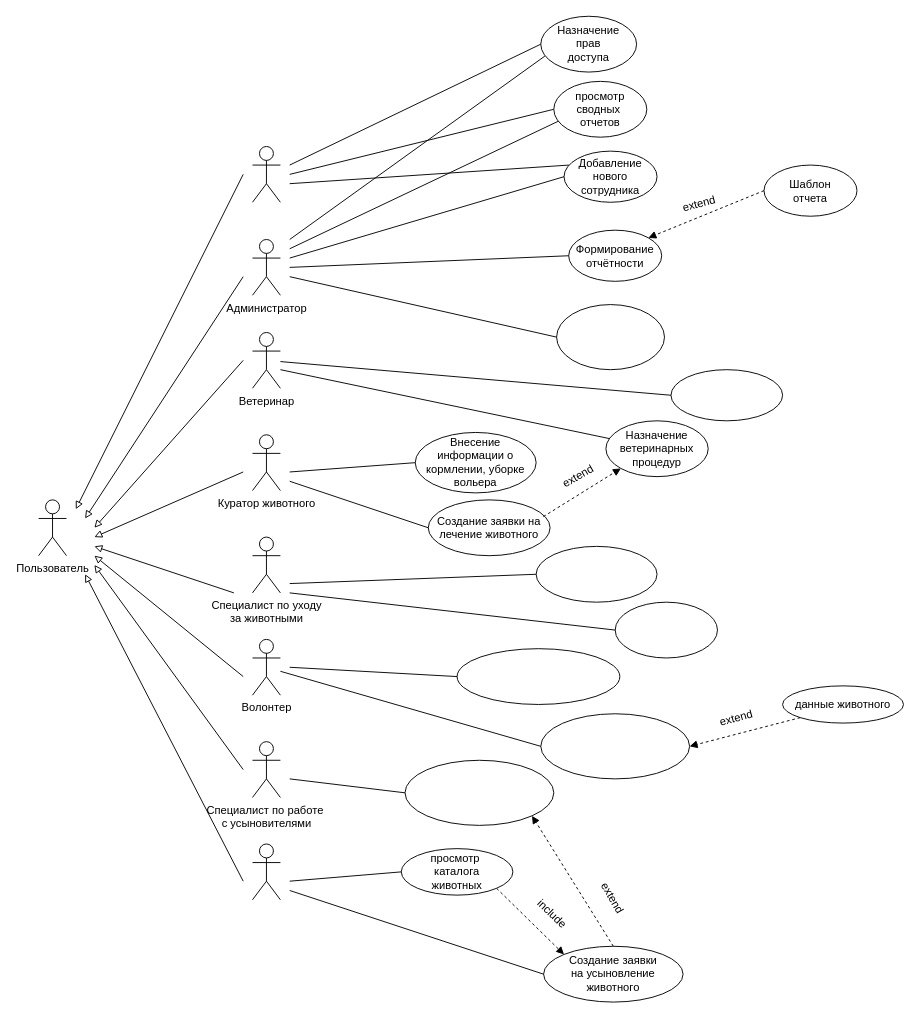
This 920x1018 diagram has some shape labels left out. The shapes that lost their labels are listed below. From the top down, each one's centre as x and y in pixels, then its label:
At point (266, 174): "Директор".
At point (610, 337): "Добавление информации о вакцинах, вольерах".
At point (726, 395): "Запись данных о лечении и вакцинации".
At point (596, 573): "Регистрация нового животного в системе".
At point (665, 629): "Просмотр состояния животного".
At point (538, 676): "Помощь специалисту по уходу за животными".
At point (615, 746): "Внесение данных о состоянии и поведении животного".
At point (479, 792): "Принятие и обработка заявок на усыновление животных".
At point (266, 871): "Потенциальный владелец".
